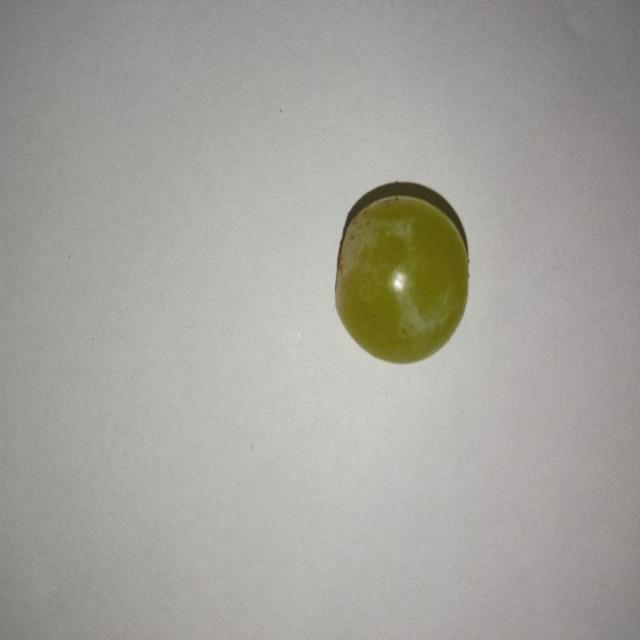fresh_grape: (332, 182, 468, 364)
